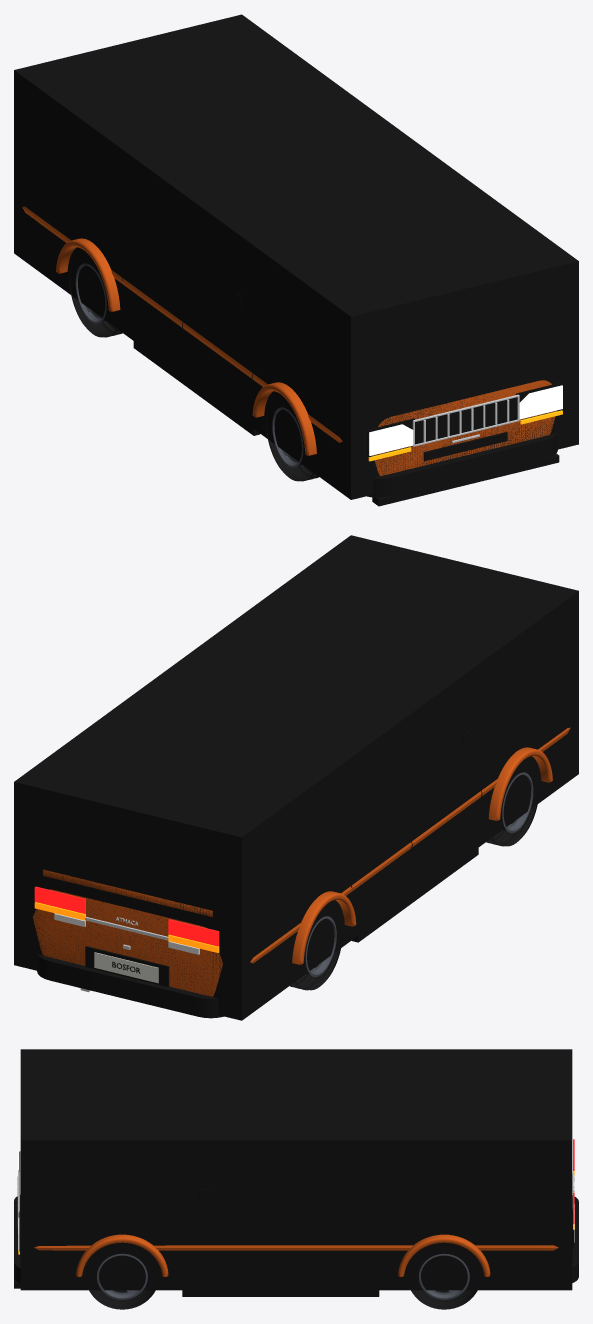
Rendered from atmaca_modified_lod0.glb.
3 renders of one model, top to bottom at view 1: azimuth 30°, elevation 25°; view 2: azimuth 150°, elevation 25°; view 3: azimuth 270°, elevation 25°, orthographic. The views are drawn at different scales.
Parts seen in each view (by area): view 1: col_body, trim, body, lights_front, wheel_RR, wheel_FR; view 2: col_body, body, trim, lights_rear, wheel_FR, wheel_RR, plate_rear; view 3: col_body, body, trim, wheel_FL, wheel_RL.
Boxes of the visible parts, bbox=[...] form: col_body: bbox=[14, 14, 578, 499]; trim: bbox=[122, 277, 563, 506]; body: bbox=[22, 206, 556, 475]; lights_front: bbox=[368, 385, 562, 461]; wheel_RR: bbox=[69, 263, 122, 337]; wheel_FR: bbox=[266, 407, 318, 481]; col_body: bbox=[14, 535, 578, 1020]; body: bbox=[33, 727, 570, 996]; trim: bbox=[37, 730, 482, 1018]; lights_rear: bbox=[34, 886, 219, 954]; wheel_FR: bbox=[486, 772, 539, 846]; wheel_RR: bbox=[290, 916, 342, 990]; plate_rear: bbox=[94, 952, 158, 983]; col_body: bbox=[20, 1049, 572, 1290]; body: bbox=[34, 1234, 558, 1276]; trim: bbox=[14, 1151, 578, 1296]; wheel_FL: bbox=[89, 1253, 155, 1309]; wheel_RL: bbox=[411, 1253, 477, 1309].
Bounding box in the file's own units: 1.77 × 1.43 × 4.3.
